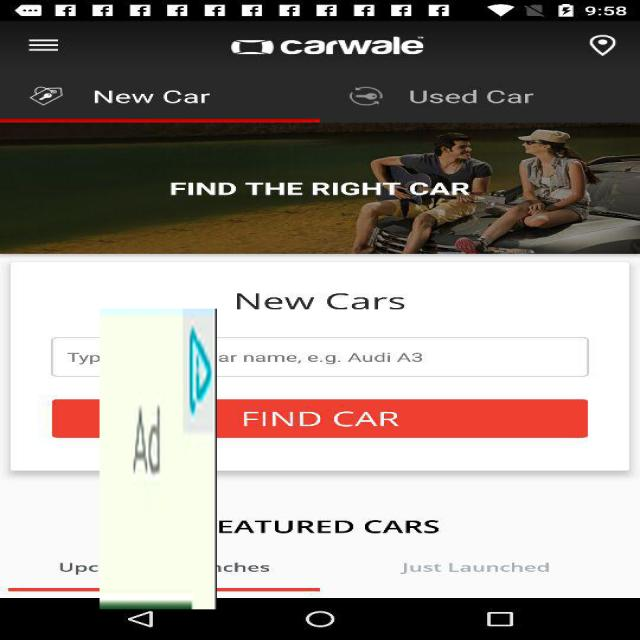sneaking: (99, 309, 217, 609)
